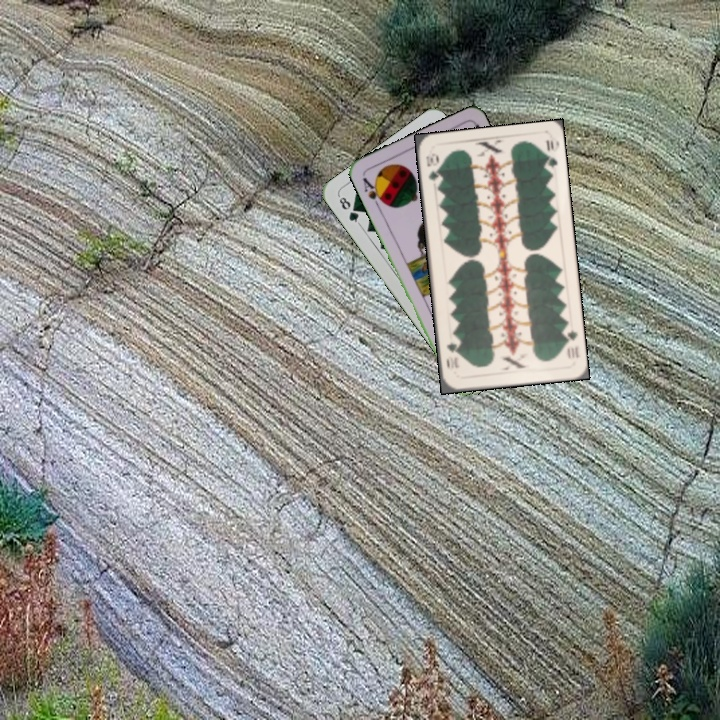G10: (559, 323, 582, 361), (422, 149, 442, 184)
G8: (334, 192, 363, 227)
SA: (359, 173, 388, 210)
